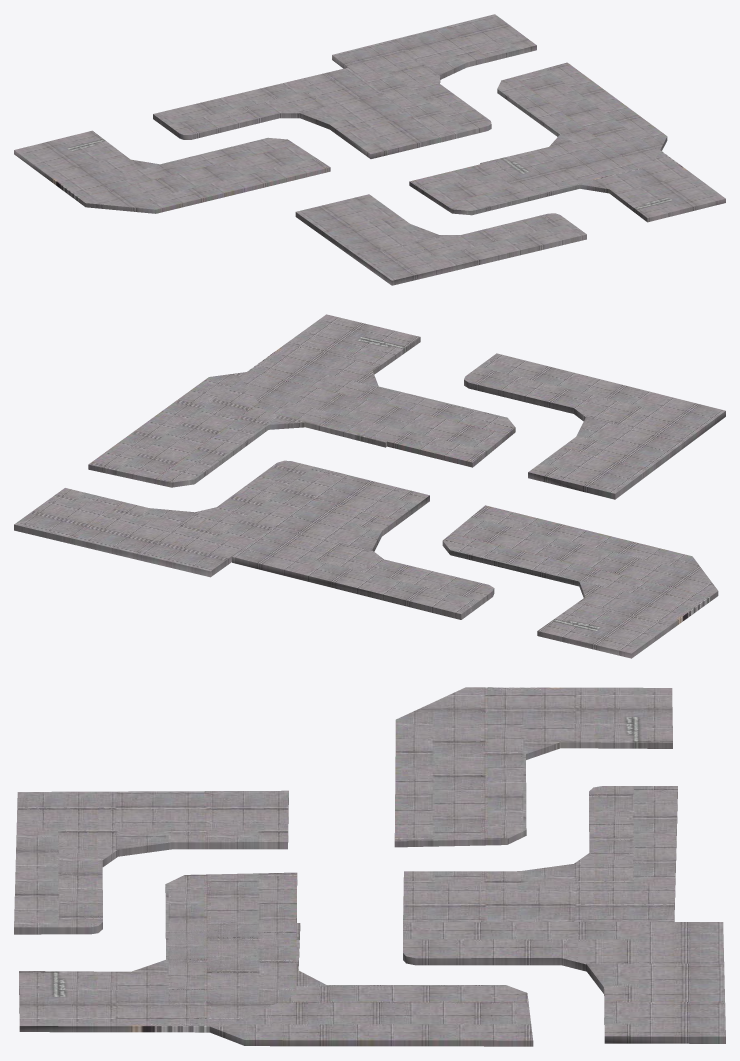
File: The_City1.obj
The picture shows the model from 3 angles, top to bottom: view 1: azimuth 30°, elevation 25°; view 2: azimuth 150°, elevation 25°; view 3: azimuth 270°, elevation 25°; orthographic projection. The views are drawn at different scales.
Visible parts, largest first — view 1: city1; view 2: city1; view 3: city1.
Boxes of the visible parts, x1=… form: city1: x1=14, y1=14, x2=725, y2=285; city1: x1=14, y1=314, x2=725, y2=658; city1: x1=14, y1=687, x2=725, y2=1046.
Bounding box in the file's own units: 1987 × 18.76 × 1693.
1 material, 1 textured.
